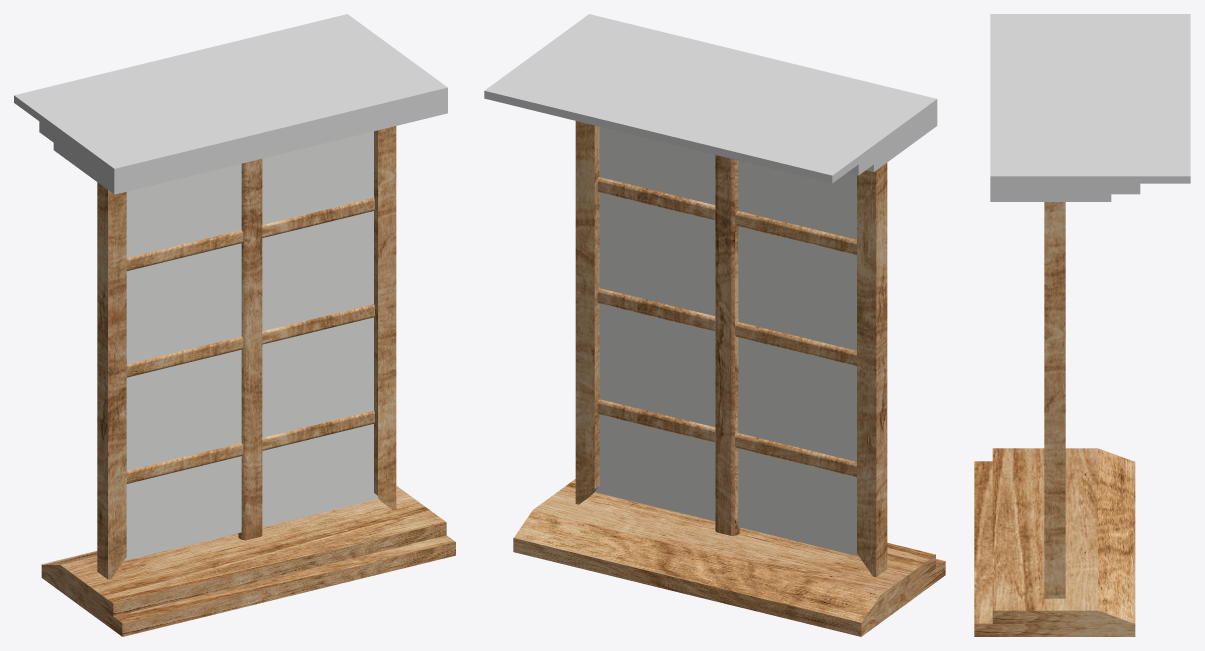
Rendered from window1.fbx.
The picture shows the model from 3 angles, left to right: view 1: azimuth 30°, elevation 25°; view 2: azimuth 150°, elevation 25°; view 3: azimuth 270°, elevation 25°; orthographic projection. The views are drawn at different scales.
Parts seen in each view (by area): view 1: Cube, Cube.003, Cube.017, Cube.001, Circle.003, Cube.002, Circle.002; view 2: Cube, Cube.003, Cube.001, Cube.017, Circle.003, Circle.002, Cube.002; view 3: Cube.003, Cube.001, Cube.017, Cube.002.
Boxes of the visible parts, x1,y1,x2,y2 form: Cube: (124, 131, 377, 560); Cube.003: (14, 14, 447, 194); Cube.017: (97, 126, 396, 579); Cube.001: (42, 485, 446, 616); Circle.003: (126, 198, 374, 483); Cube.002: (41, 535, 455, 636); Circle.002: (238, 159, 262, 540); Cube: (595, 127, 858, 556); Cube.003: (484, 14, 937, 183); Cube.001: (514, 479, 935, 622); Cube.017: (575, 121, 887, 576); Circle.003: (597, 177, 856, 477); Circle.002: (715, 155, 740, 535); Cube.002: (513, 537, 945, 636); Cube.003: (990, 14, 1190, 201); Cube.001: (992, 448, 1133, 623); Cube.017: (1044, 202, 1065, 598); Cube.002: (974, 461, 1135, 636).
Size of the model in its own units: 616 by 816 by 347.
Materials: 2 (1 with a texture image).
